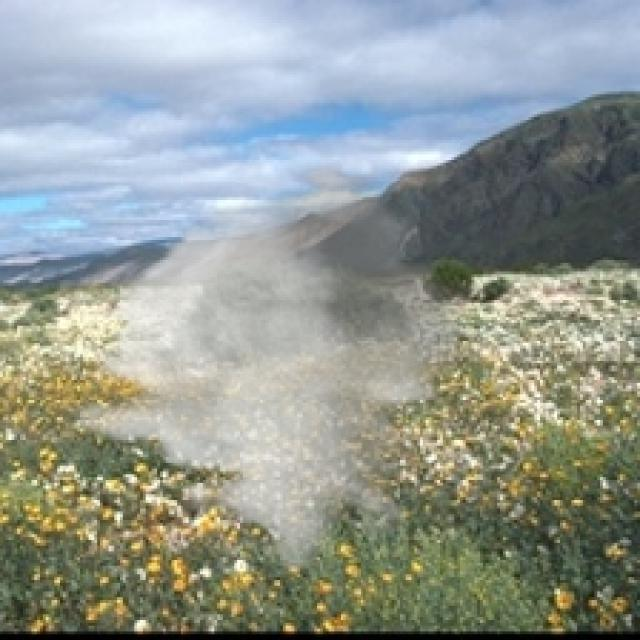Smoke: (66, 160, 483, 574)
